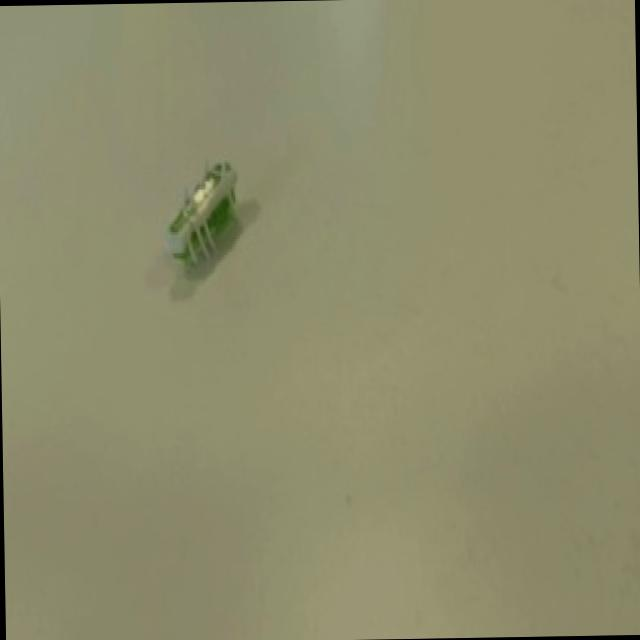4_NanoBug_Blanco: (128, 138, 286, 302)
